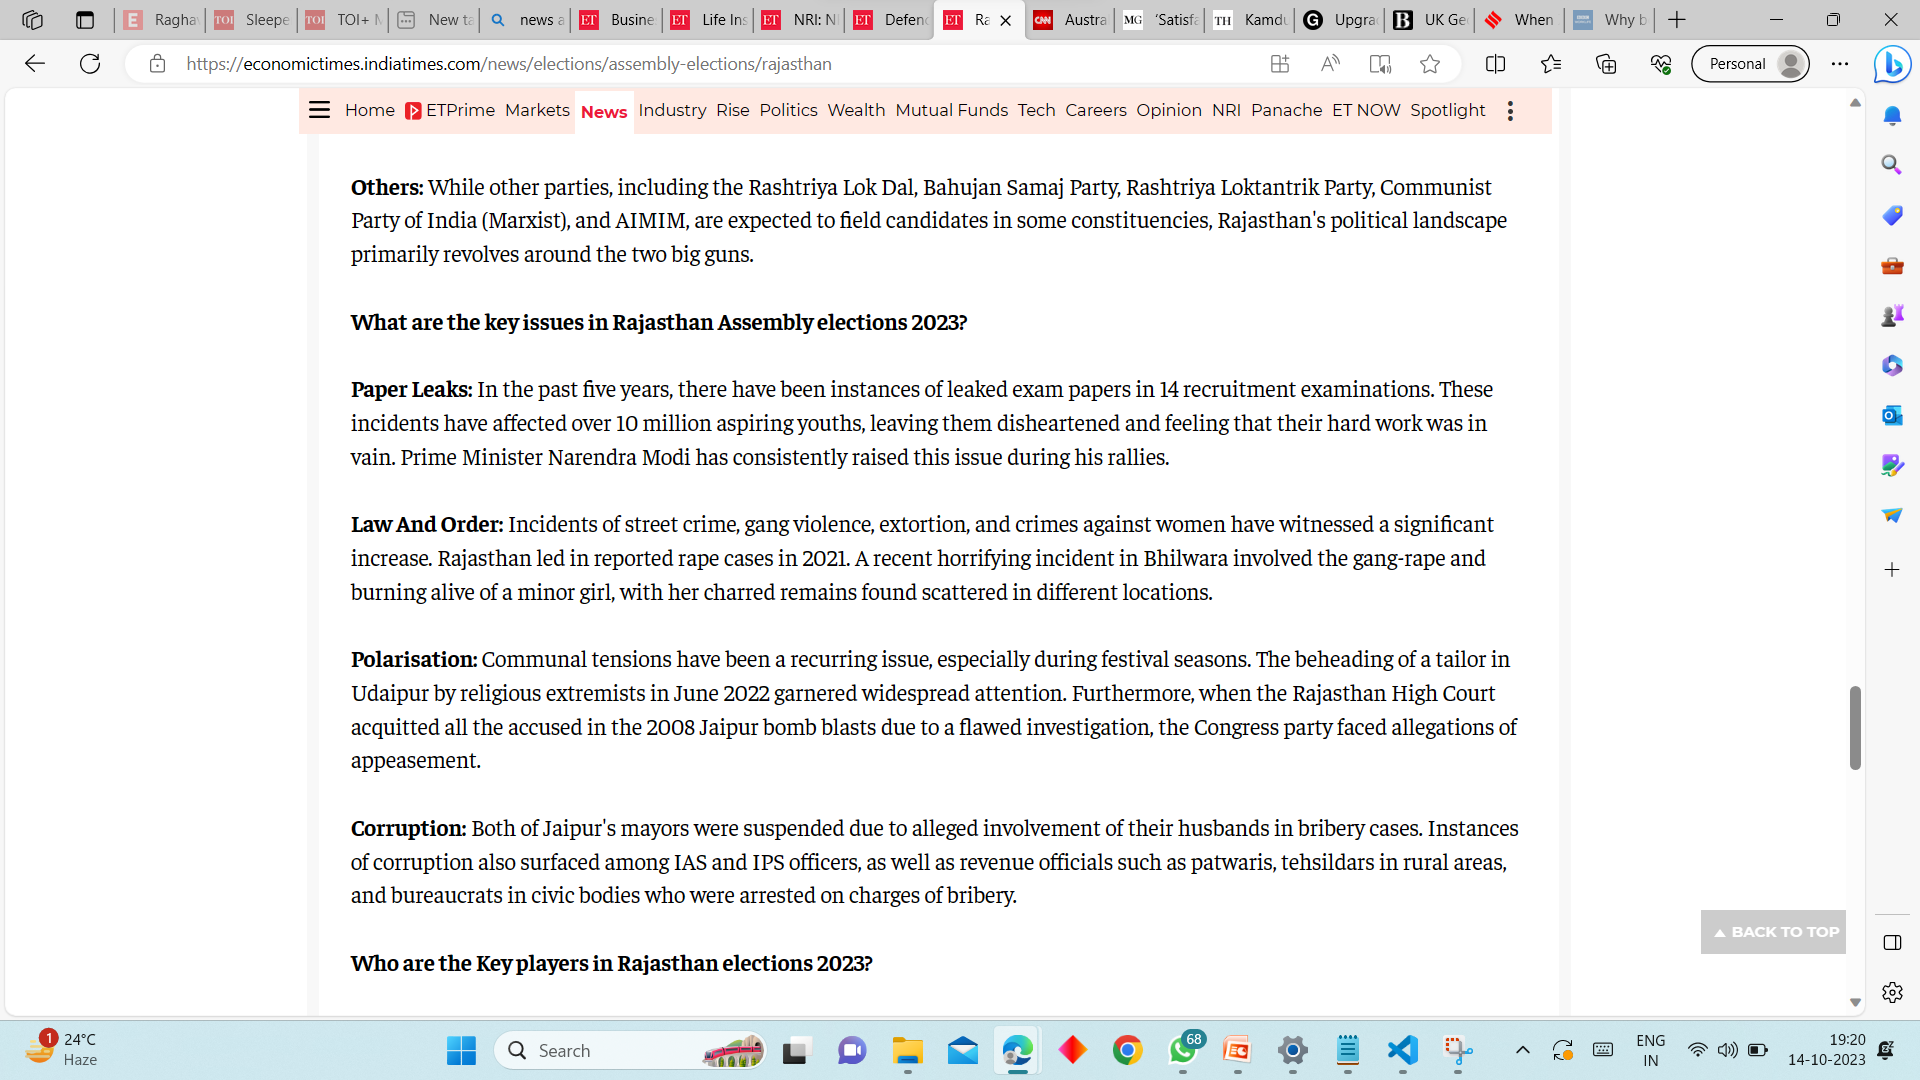Paragraph: (347, 637, 1536, 762), (344, 512, 1514, 617), (338, 172, 1518, 275), (347, 373, 1512, 476), (338, 812, 1536, 903), (342, 304, 973, 347), (347, 953, 883, 975)
